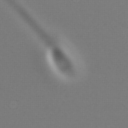normal: (4, 1, 53, 45)
